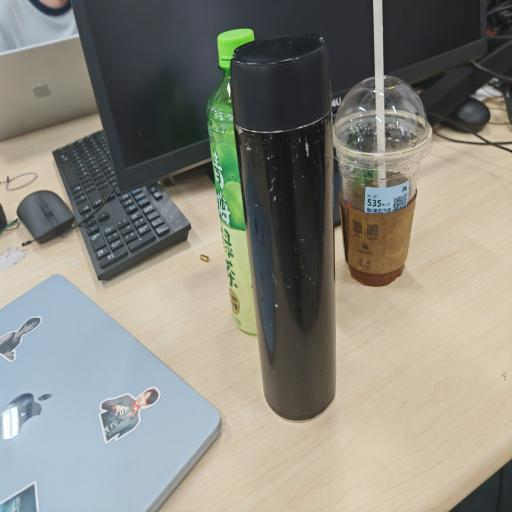laptop: (0, 275, 220, 511), (0, 35, 97, 140)
mouse: (16, 190, 74, 243), (446, 98, 490, 132)
